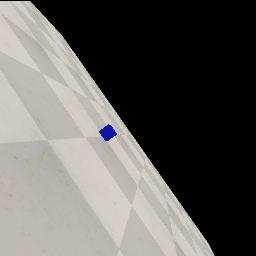box: (99, 124, 117, 141)
